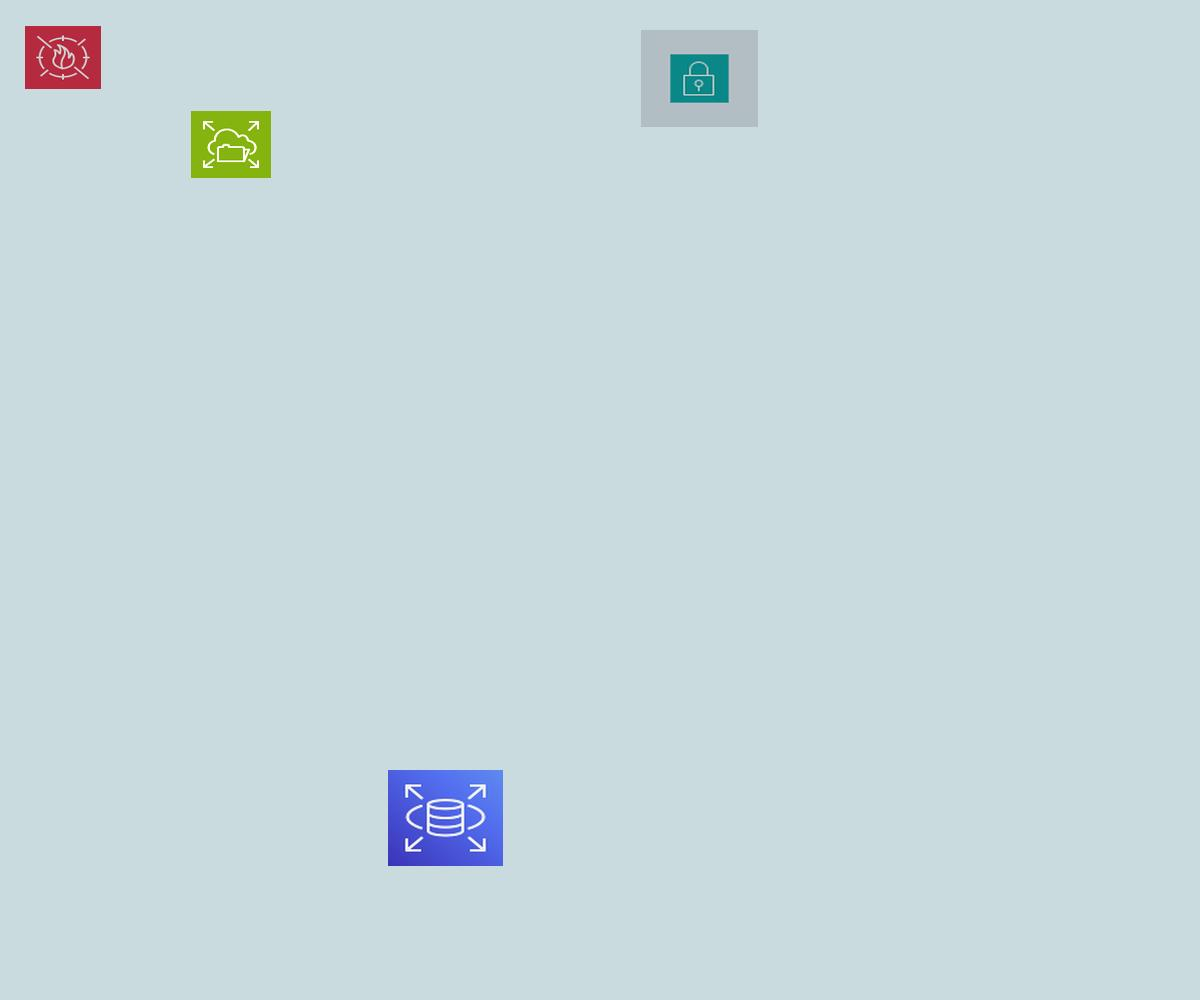AWS-EFS: (191, 111, 271, 178)
AWS-Private-subnet: (641, 30, 758, 127)
AWS-RDS: (388, 770, 503, 866)
AWS-WAF: (25, 26, 101, 89)
